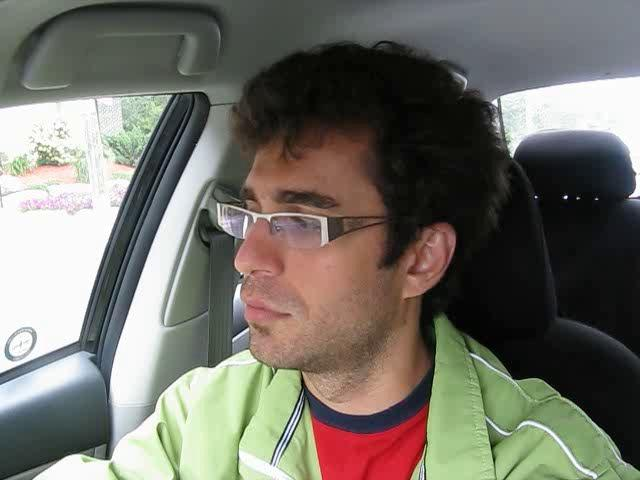no_yawn: (218, 291, 303, 338)
open_eyeR: (268, 201, 341, 249)
